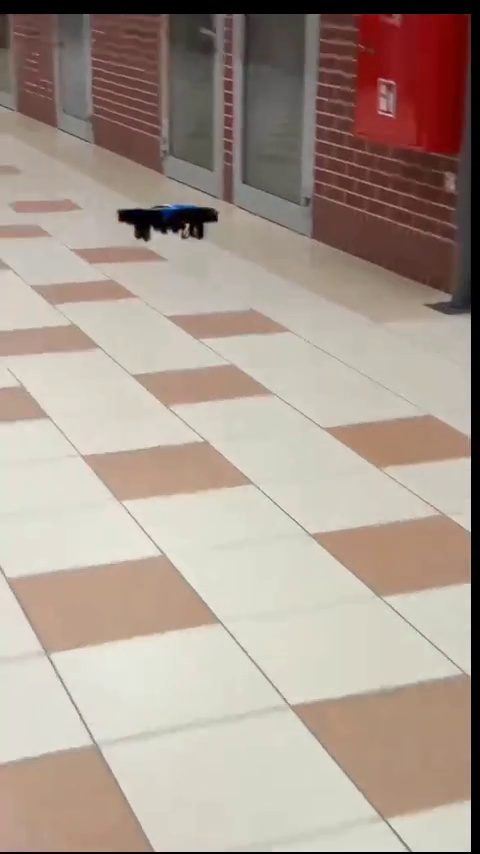drone: (117, 202, 218, 246)
